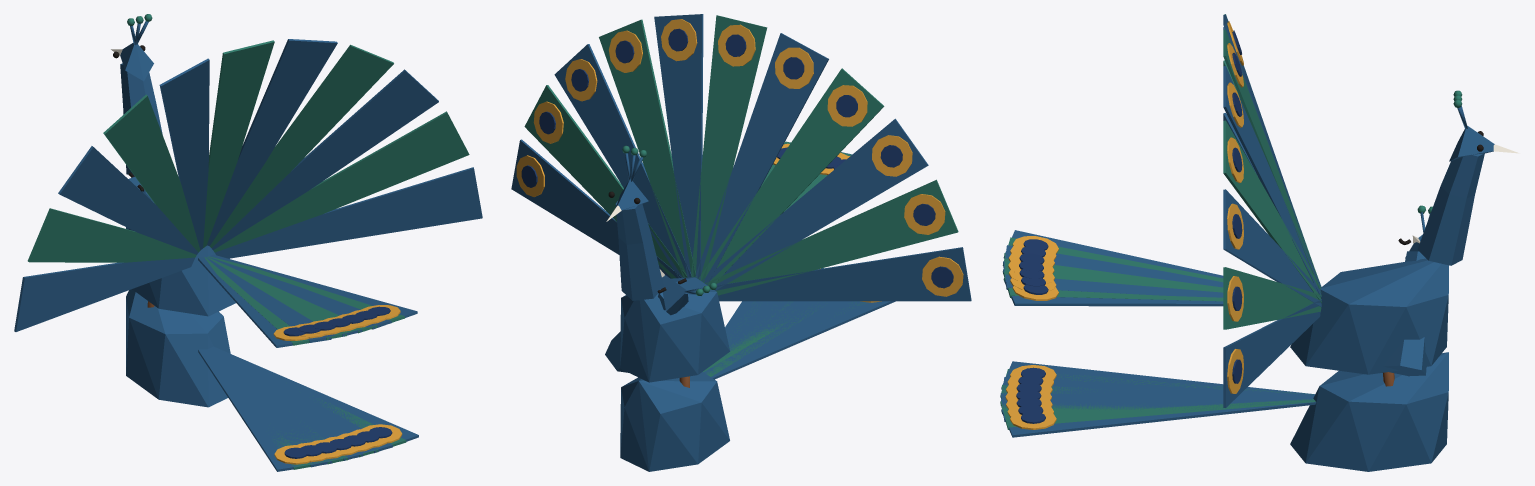
The model's file is pet_peacock.glb.
3 renders of one model, left to right at view 1: azimuth 30°, elevation 25°; view 2: azimuth 150°, elevation 25°; view 3: azimuth 270°, elevation 25°, orthographic. The views are drawn at different scales.
Parts seen in each view (by area): view 1: tail.001, tail.002, tail, body.002, body.001, head.001; view 2: tail.001, body.002, body.001, tail.002, head.001, head.002, tail; view 3: tail.001, tail.002, body.002, body.001, tail, head.001, head.002.
Boxes of the visible parts, bbox=[...] form: tail.001: bbox=[14, 39, 482, 331]; tail.002: bbox=[198, 346, 418, 471]; tail: bbox=[198, 254, 417, 347]; body.002: bbox=[126, 289, 230, 407]; body.001: bbox=[126, 200, 235, 316]; head.001: bbox=[111, 14, 162, 176]; tail.001: bbox=[511, 14, 971, 301]; body.002: bbox=[620, 372, 729, 471]; body.001: bbox=[620, 277, 729, 382]; tail.002: bbox=[703, 268, 895, 379]; head.001: bbox=[606, 145, 663, 300]; head.002: bbox=[605, 269, 716, 372]; tail: bbox=[761, 141, 852, 211]; tail.001: bbox=[1223, 14, 1321, 407]; tail.002: bbox=[1000, 361, 1316, 437]; body.002: bbox=[1290, 352, 1448, 471]; body.001: bbox=[1290, 258, 1448, 374]; tail: bbox=[1002, 230, 1223, 306]; head.001: bbox=[1417, 90, 1519, 265]; head.002: bbox=[1383, 205, 1432, 376].
Bounding box in the file's own units: 0.6462 × 0.5024 × 0.5816.
